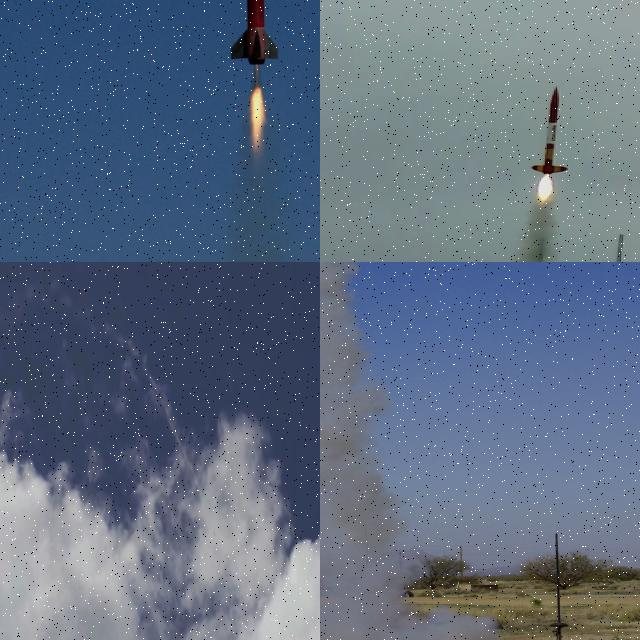Rocket: (530, 85, 570, 175), (229, 0, 279, 65), (213, 530, 216, 537)
